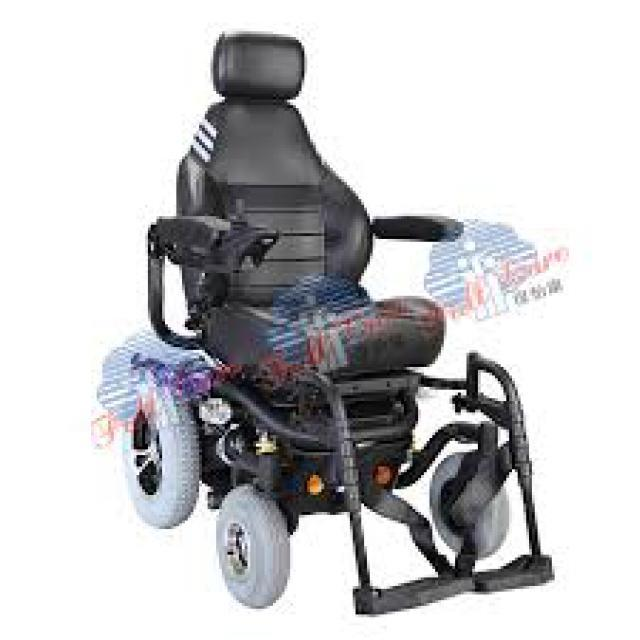wheelchair: (65, 23, 572, 623)
